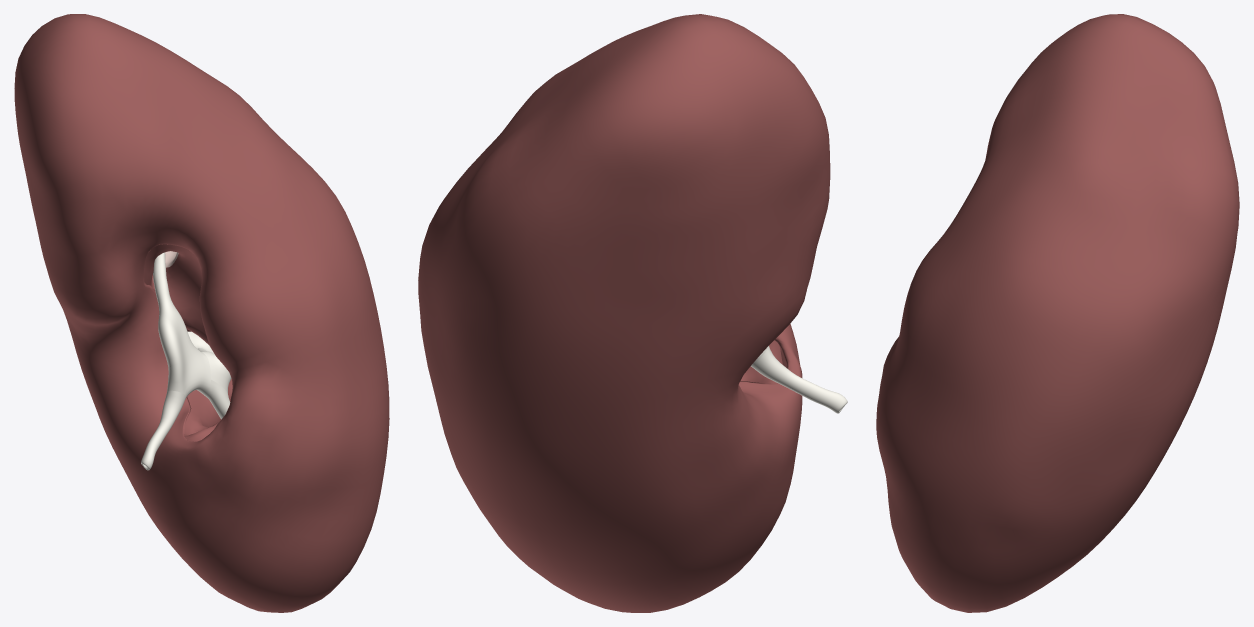
Rendered from VH_F_Kidney_Left_v1.1.glb.
3 renders of one model, left to right at view 1: azimuth 30°, elevation 25°; view 2: azimuth 150°, elevation 25°; view 3: azimuth 270°, elevation 25°, orthographic. The views are drawn at different scales.
Visible parts, largest first — view 1: VHF_kidney_capsule_L, VHF_hilum_of_kidney_L, VHF_renal_pelvis_L, VHF_ureter_L_a, VHF_major_calyx_L_d; view 2: VHF_kidney_capsule_L, VHF_ureter_L_a; view 3: VHF_kidney_capsule_L.
Part boxes in pixels (x1,y1,x2,y2): VHF_kidney_capsule_L: (14,14,389,612); VHF_hilum_of_kidney_L: (144,244,232,441); VHF_renal_pelvis_L: (154,277,210,398); VHF_ureter_L_a: (141,390,185,470); VHF_major_calyx_L_d: (208,379,230,419); VHF_kidney_capsule_L: (418,14,830,612); VHF_ureter_L_a: (751,346,847,413); VHF_kidney_capsule_L: (876,14,1239,612).
Bounding box in the file's own units: 0.0731 × 0.1249 × 0.0776.
